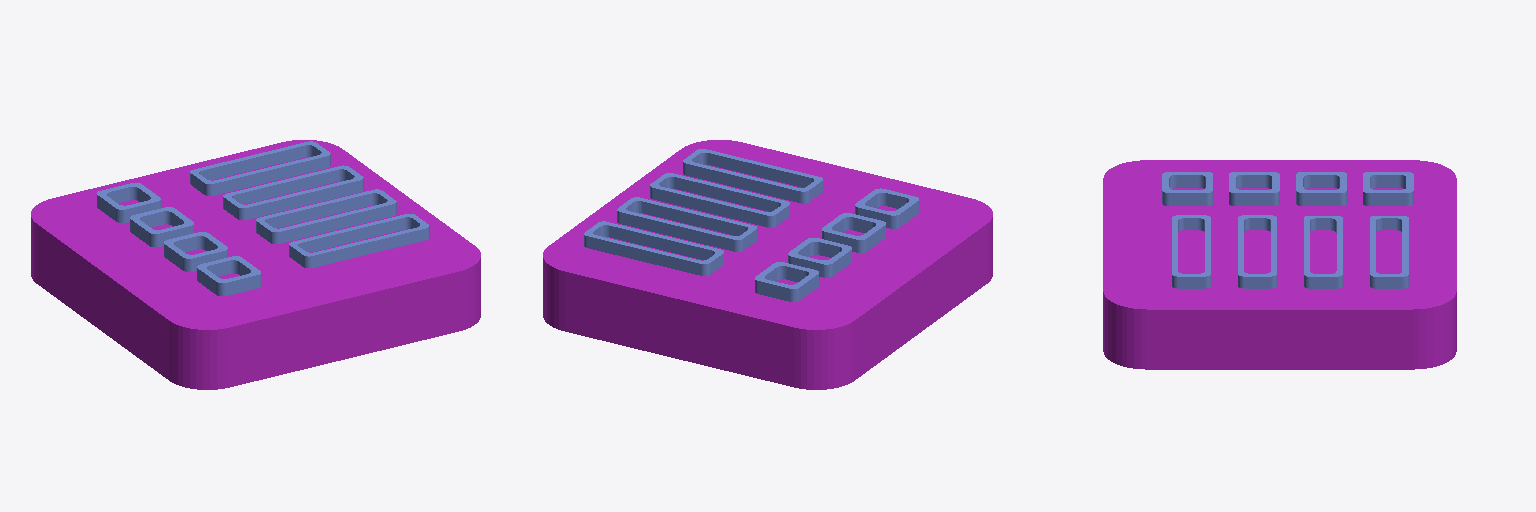
The model's file is Survey.obj.
The picture shows the model from 3 angles: view 1: azimuth 30°, elevation 25°; view 2: azimuth 150°, elevation 25°; view 3: azimuth 270°, elevation 25°; orthographic projection.
Parts seen in each view (by area): view 1: Survey; view 2: Survey; view 3: Survey.
Boxes of the visible parts, <box> form: Survey: <box>31,140,480,389</box>; Survey: <box>543,140,992,389</box>; Survey: <box>1103,160,1456,369</box>.
Bounding box in the file's own units: 0.26 × 0.0632 × 0.26.